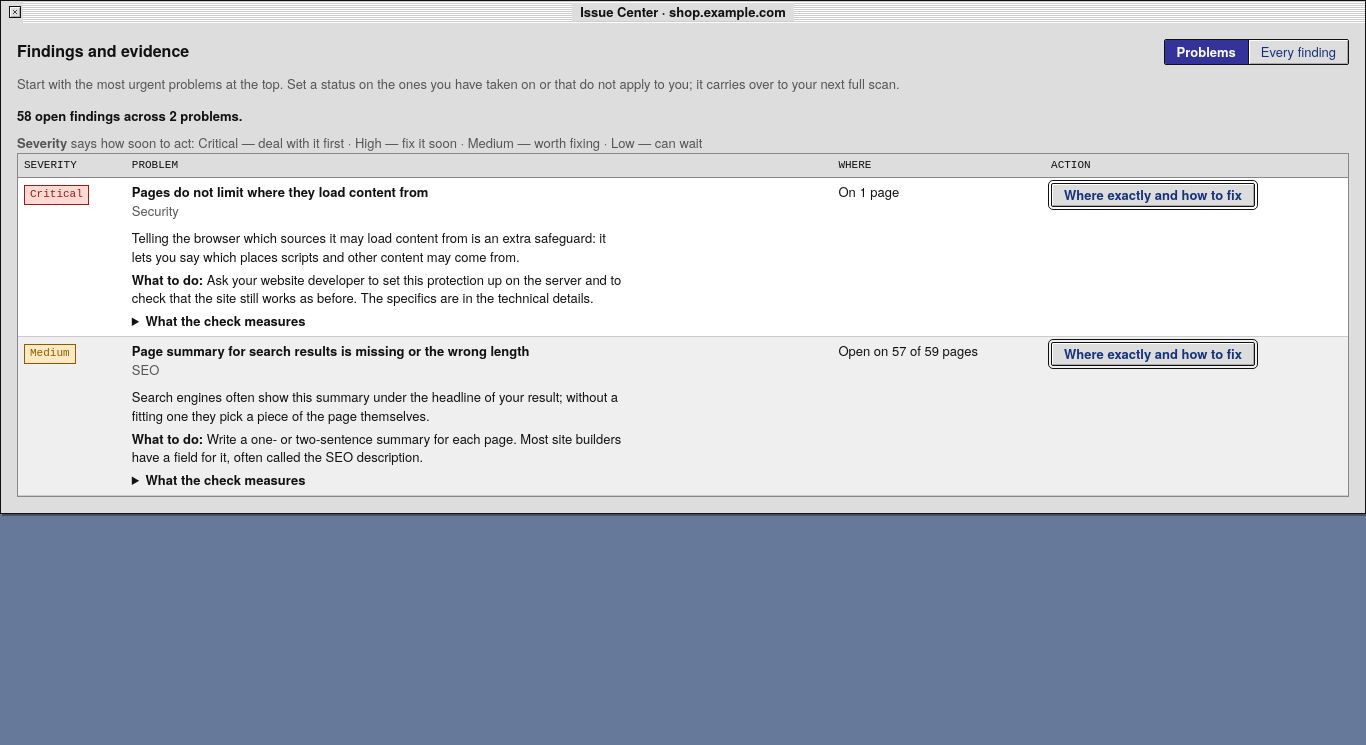
Scenario: the Issue Center › names the problem once above the table when the list is filtered to it
Click the button named "Where exactly and how to fix: Page summary for search results is missing or the wrong length": point(1153, 354) [1051,342,1255,366]
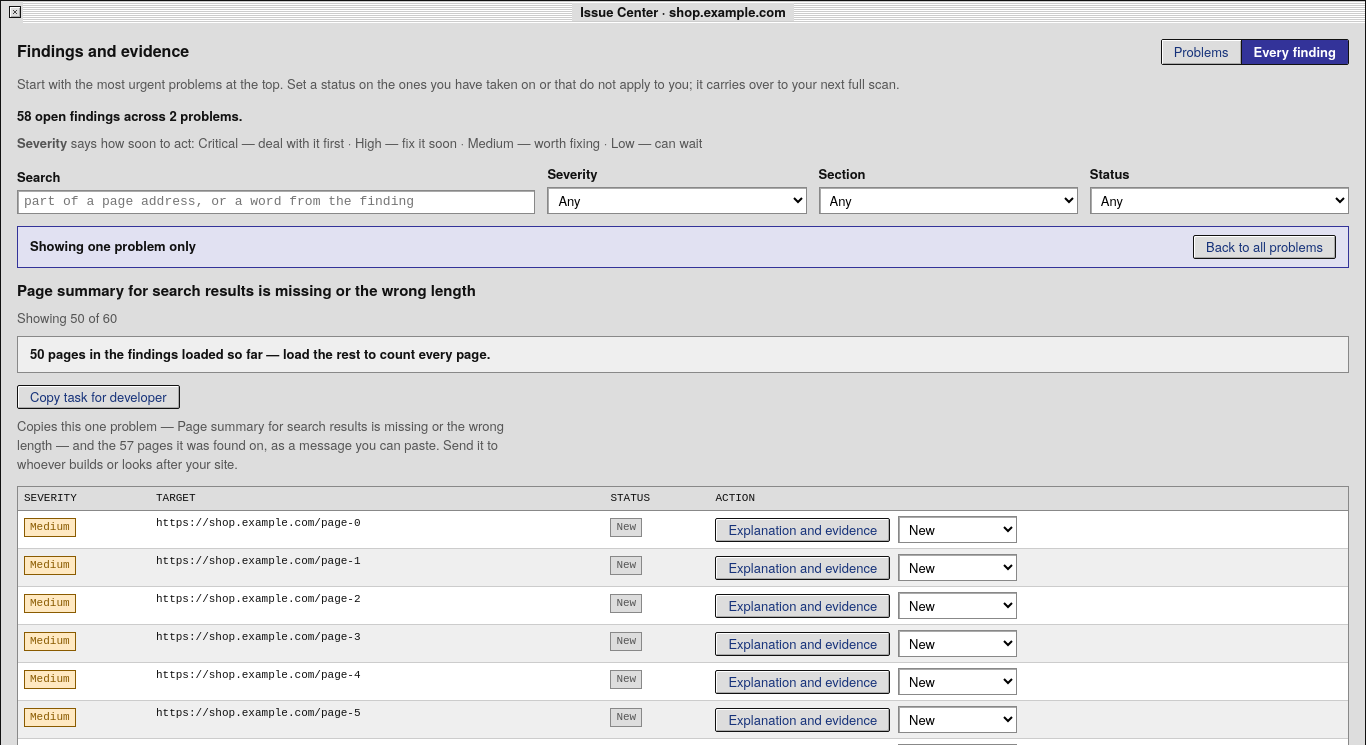
Now the text "Showing 50 of 60" is shown, box [17,308,117,327]
Now the heading "Page summary for search results is missing or the wrong length" is shown, box [17,279,476,301]
